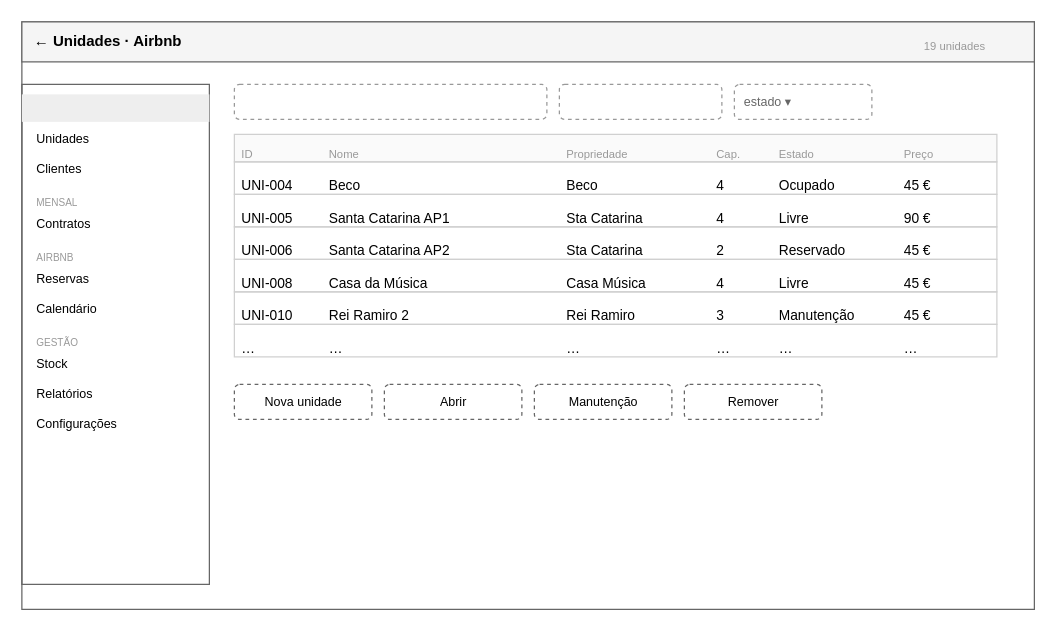
The diagram is 1056 pixels wide and 631 high, and some of its shapes have lost their labels. The centre of each missing label's shape, as x and y in pixels:
"Painel" goes at (x=115, y=107).
"procurar…" goes at (x=390, y=101).
"propriedade ▾" goes at (x=640, y=101).
